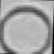no answer: (0, 2, 54, 54)
